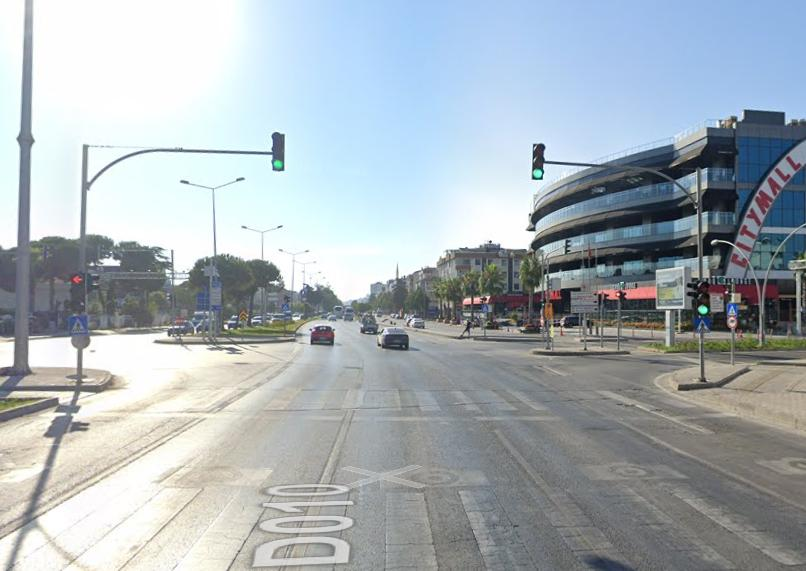greenlight: (696, 278, 712, 316), (271, 133, 286, 170), (531, 143, 545, 181)
redlight: (68, 272, 85, 315)
